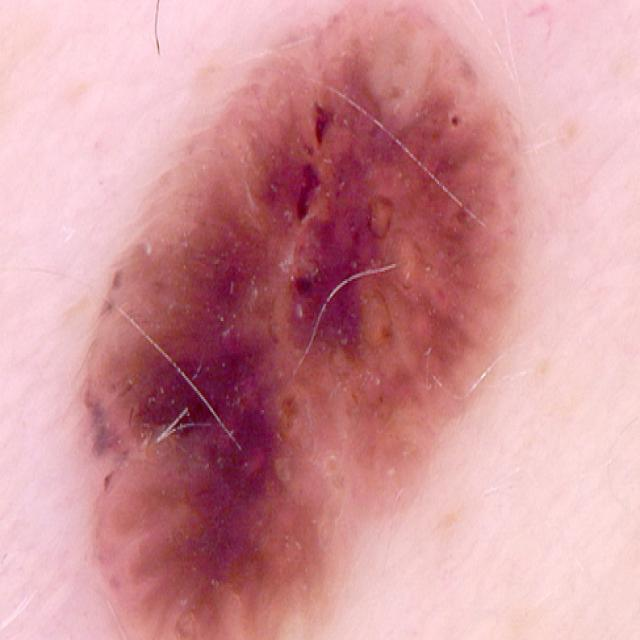Keratosis: (55, 17, 539, 640)
